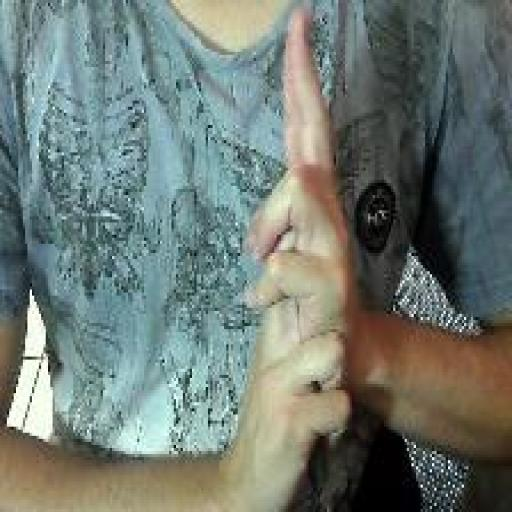Hitsuji -ram-: (234, 8, 358, 510)
